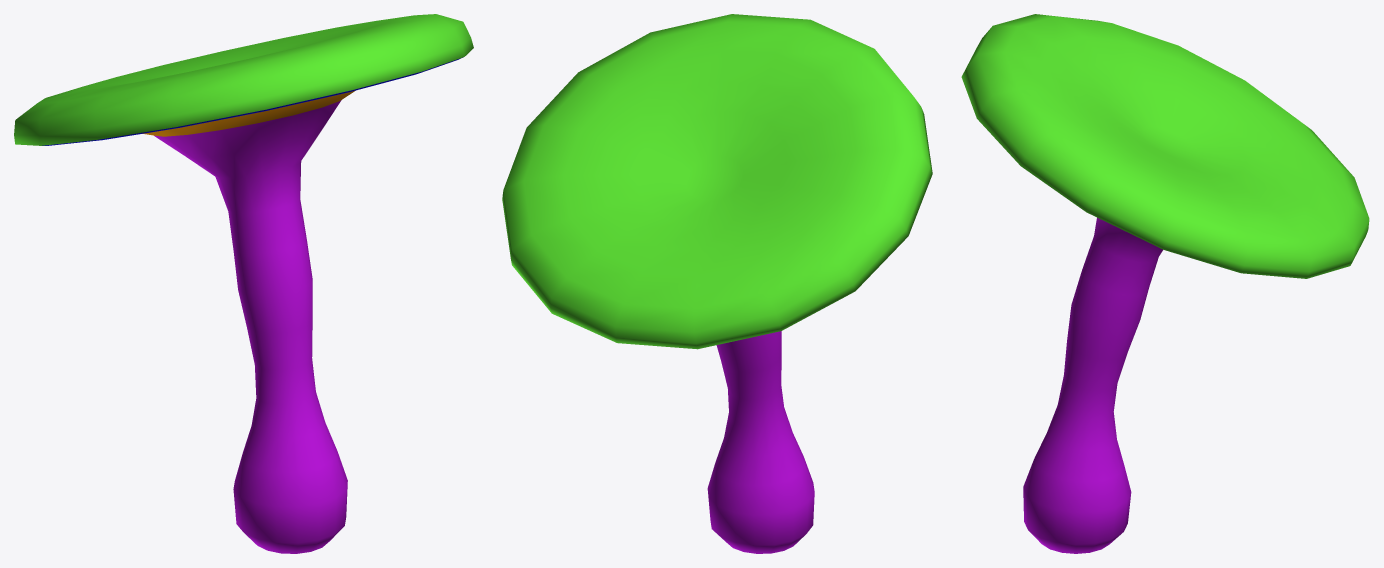
The model's file is OysterMushroom.glb.
3 views of the same model, side by side, from view 1: azimuth 30°, elevation 25°; view 2: azimuth 150°, elevation 25°; view 3: azimuth 270°, elevation 25° (orthographic). The views are drawn at different scales.
Parts seen in each view (by area): view 1: Plane; view 2: Plane; view 3: Plane.
Boxes of the visible parts, box(x1,y1,x2,y2) form: Plane: box(14, 14, 473, 553); Plane: box(502, 14, 932, 553); Plane: box(961, 14, 1369, 553).
Size of the model in its own units: 3.3 by 4.02 by 3.05.
